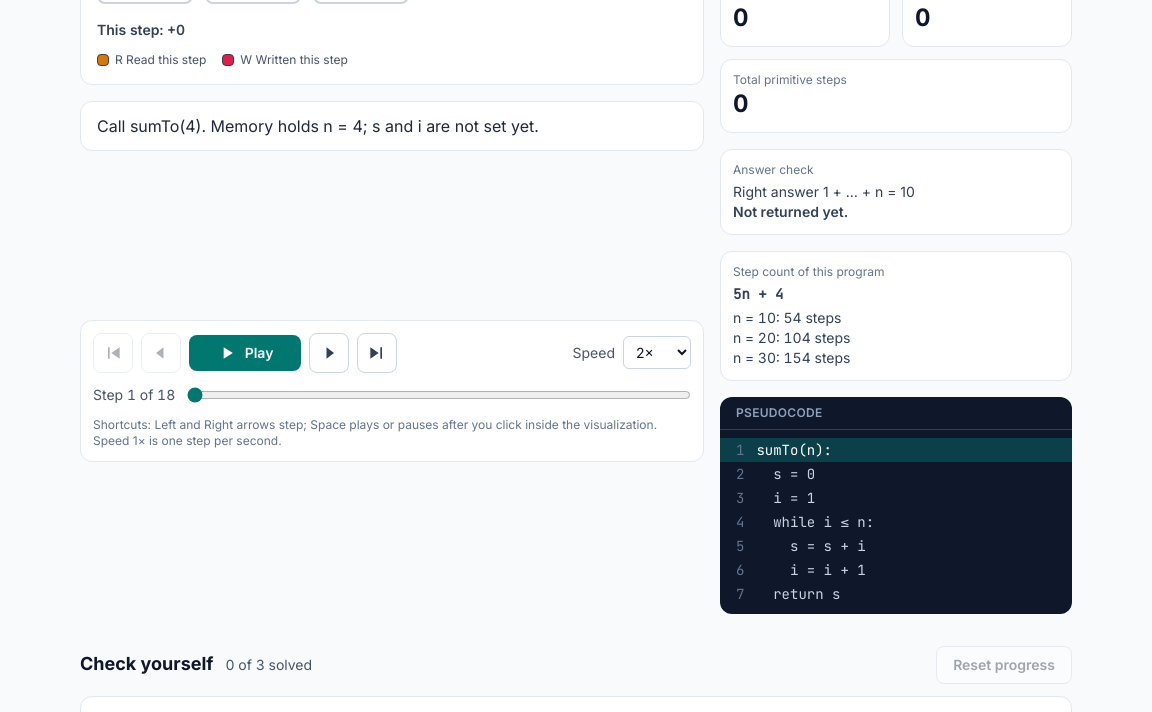
RAM model lesson › marks the variables read and written on a step
The image size is (1152, 712).
(page scrolled)
Click the button named "Next step". click: (329, 352)
box: [309,332,349,372]
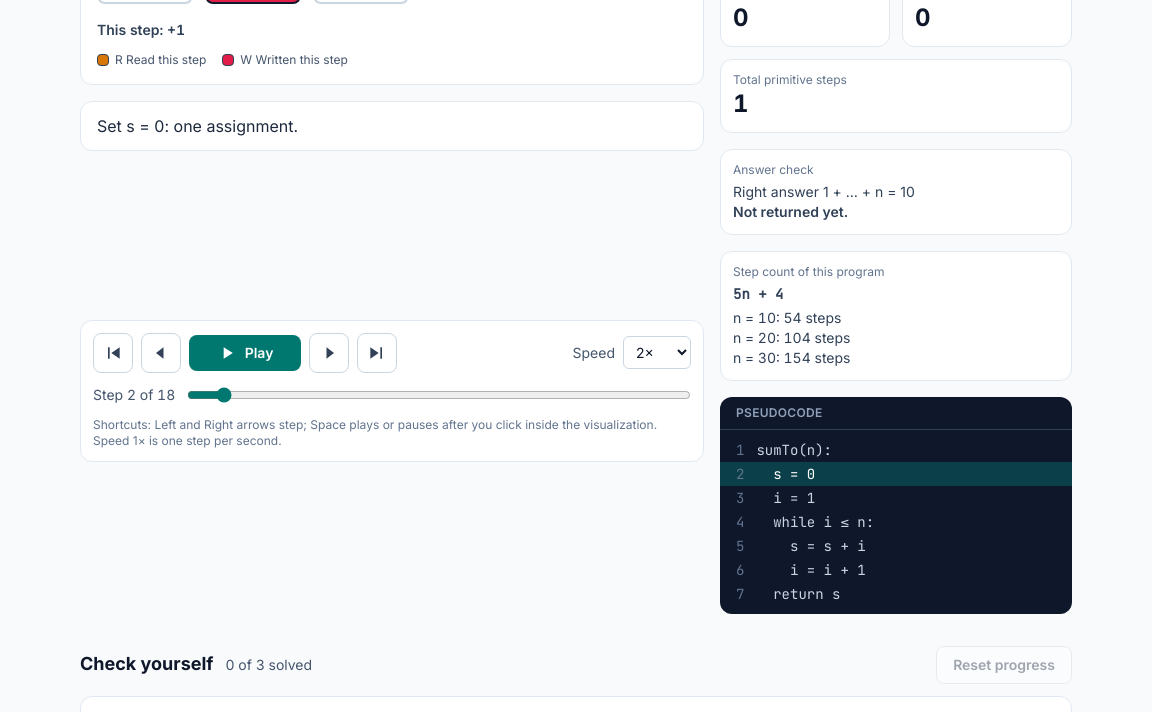
Click the button named "Next step". click: (329, 352)
box: [309,332,349,372]
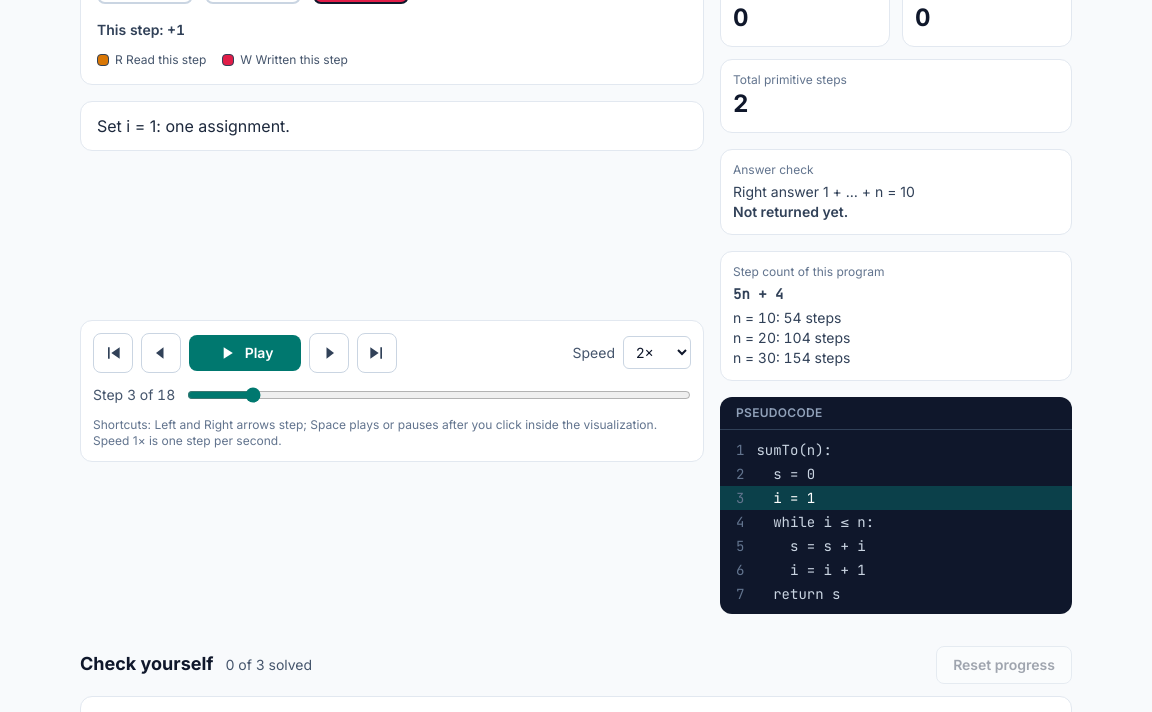
Click the button named "Next step". click: (329, 352)
box: [309,332,349,372]
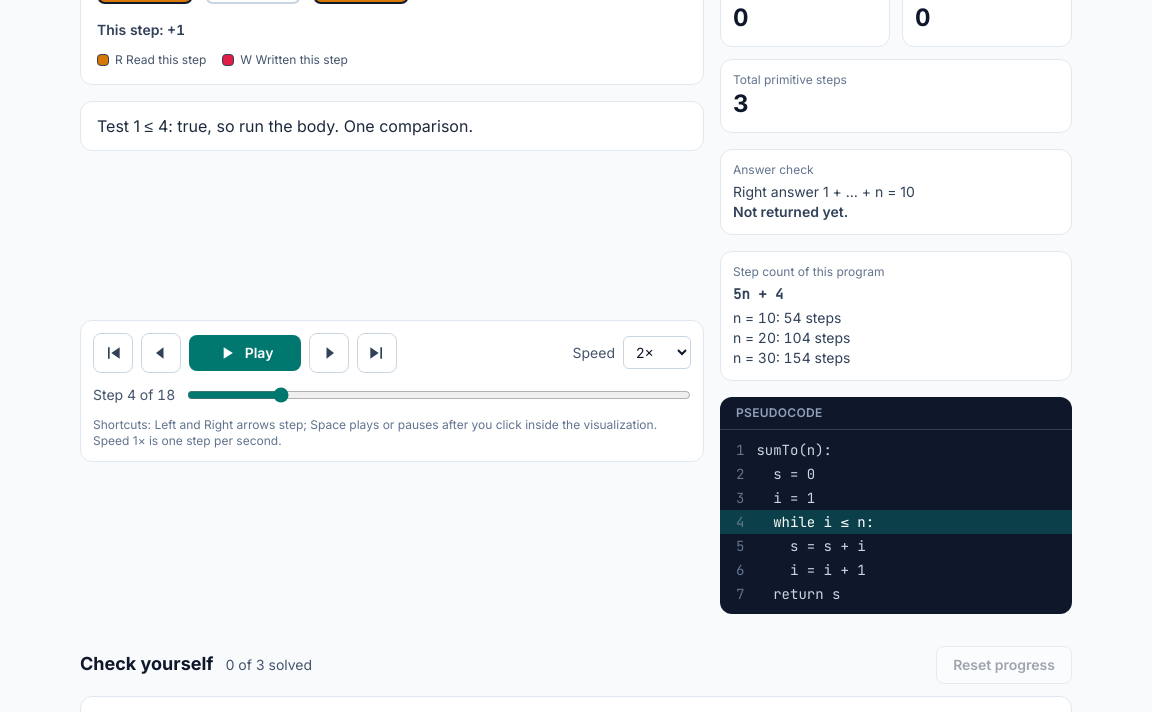
Click the button named "Next step". click: (329, 352)
box: [309,332,349,372]
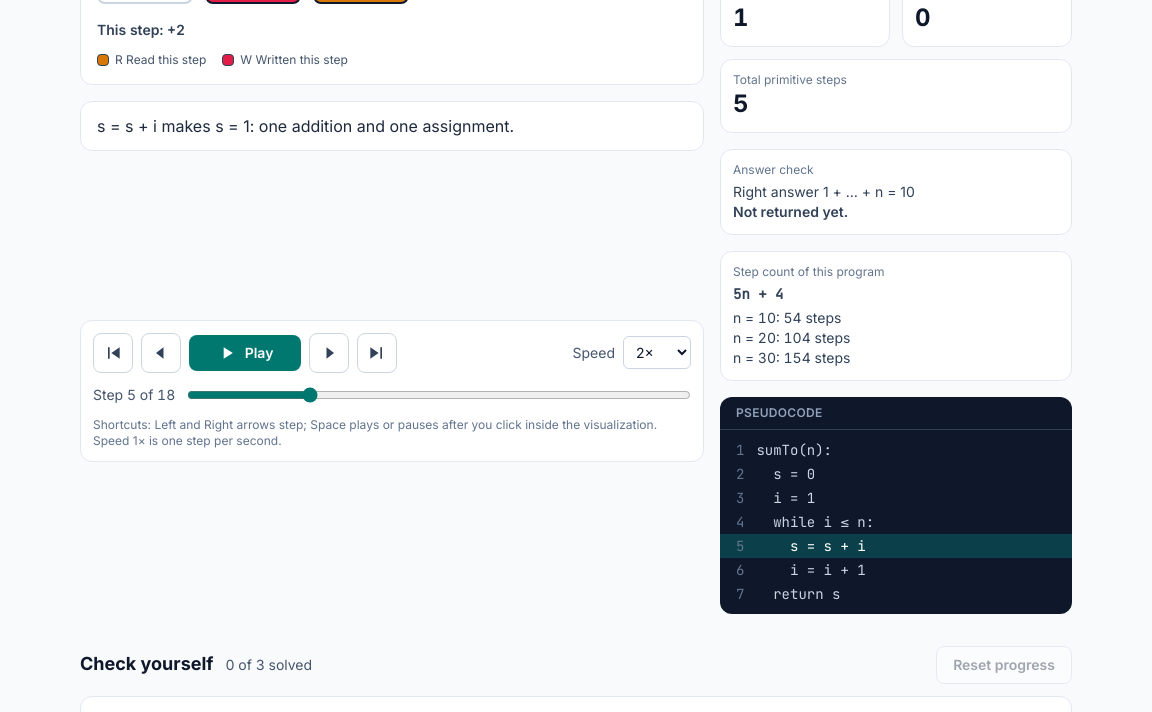
Expected: the text "s = s + i makes s = 1: one addition and one assignment." is shown, [80,101,704,151]
